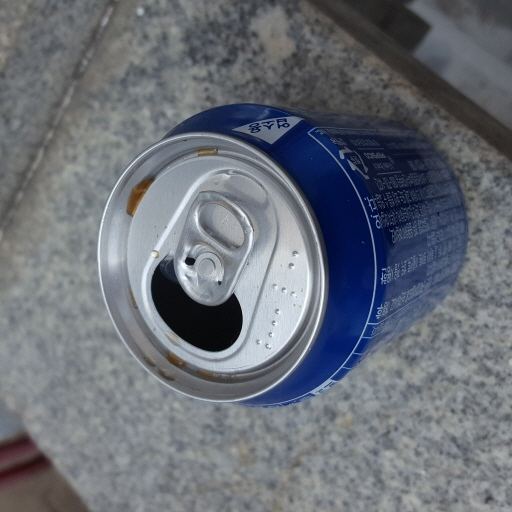Metal_0: (94, 93, 469, 416)
